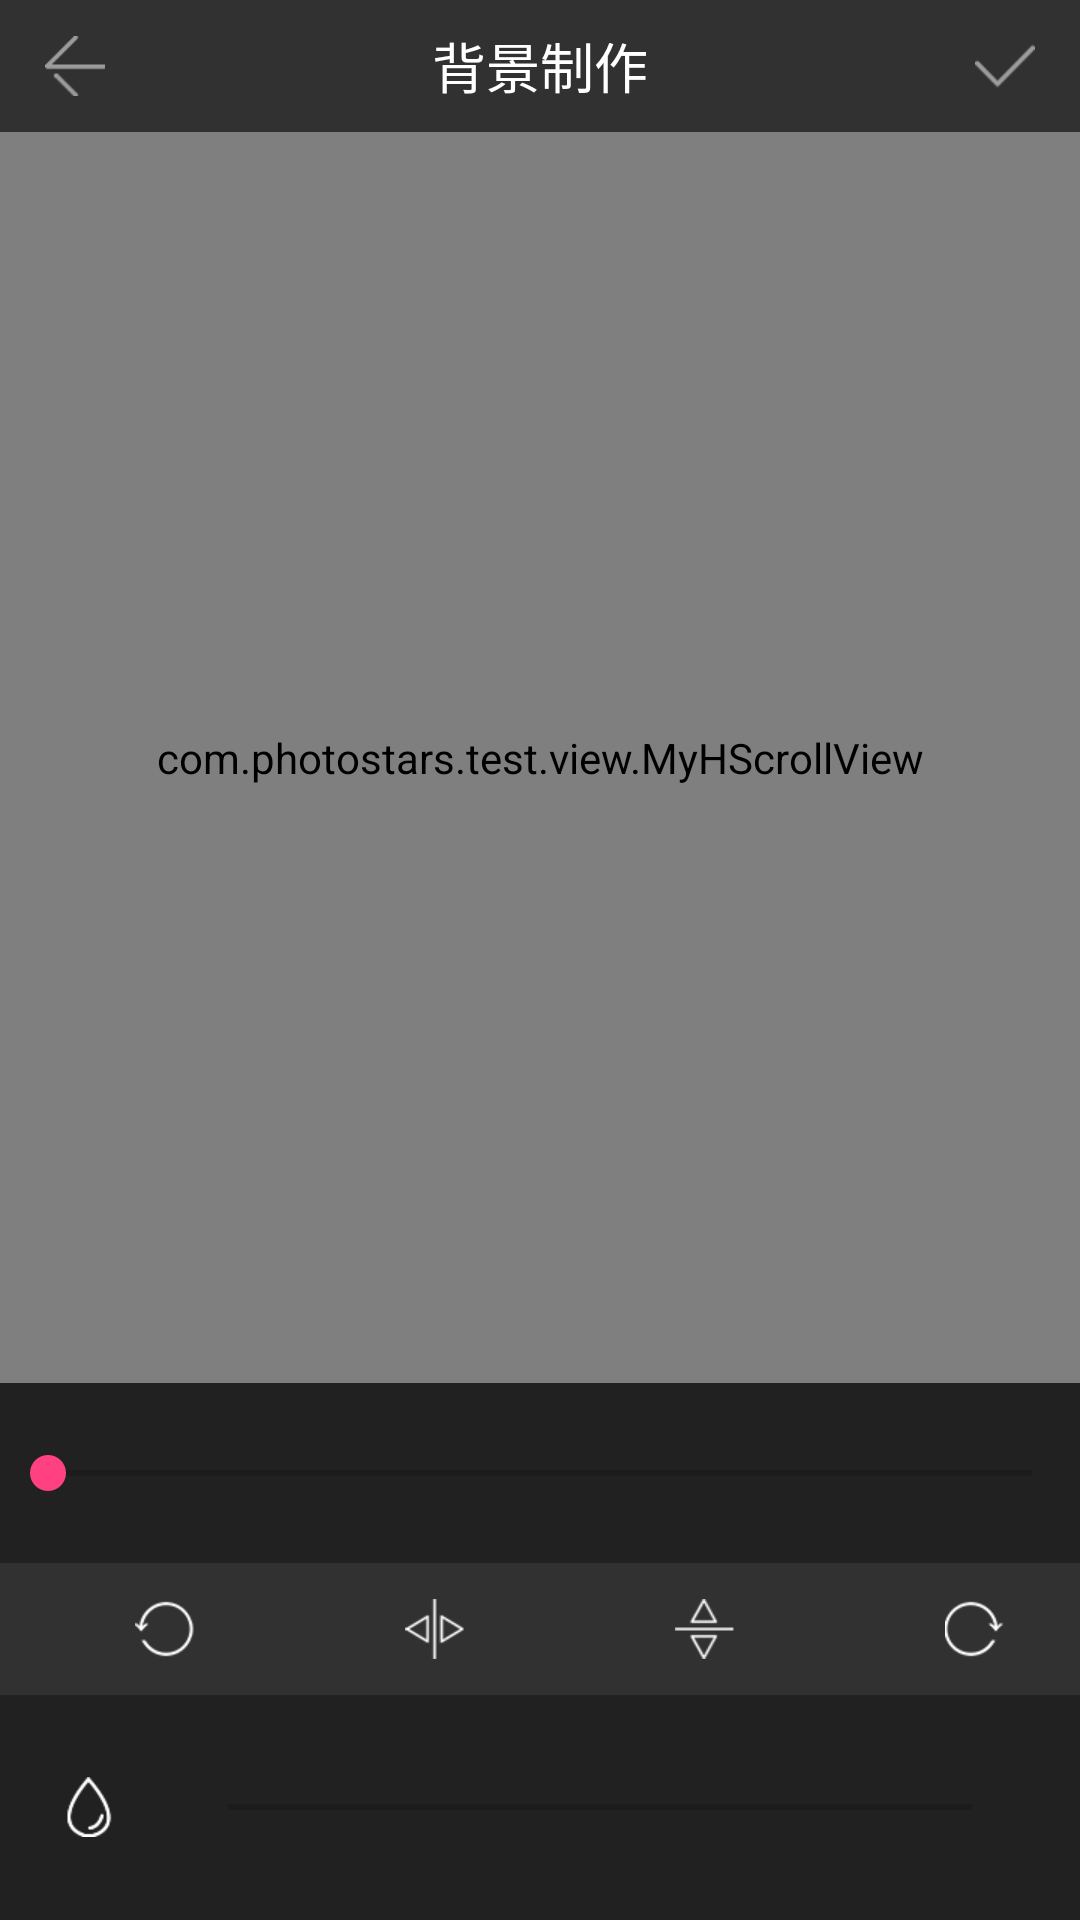

Locate icon controls on the screen. Image size 1080 × 1920, boxes as bbox=[x1, y1, x2, y2].
blur: bbox=[67, 1777, 112, 1837]
invert: bbox=[405, 1599, 464, 1659], bbox=[675, 1599, 734, 1659]
left rotate: bbox=[135, 1601, 194, 1657]
right rotate: bbox=[945, 1601, 1003, 1657]
title back: bbox=[45, 36, 105, 96]
title done: bbox=[975, 45, 1035, 87]
